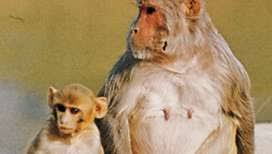monkey: (103, 1, 253, 154), (25, 53, 101, 154)
